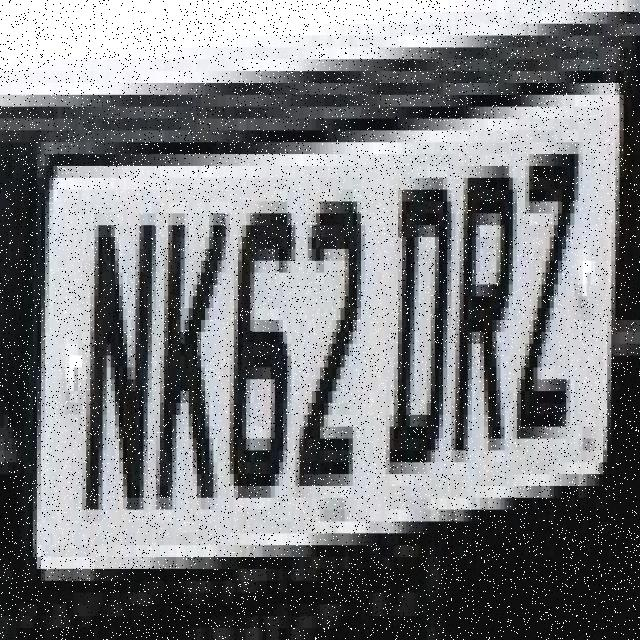licenseplate: (25, 63, 628, 590)
